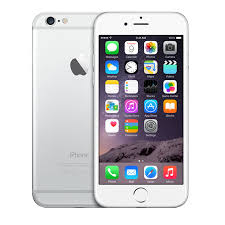iphone: (88, 9, 190, 213)
iphone6: (87, 8, 189, 212)
